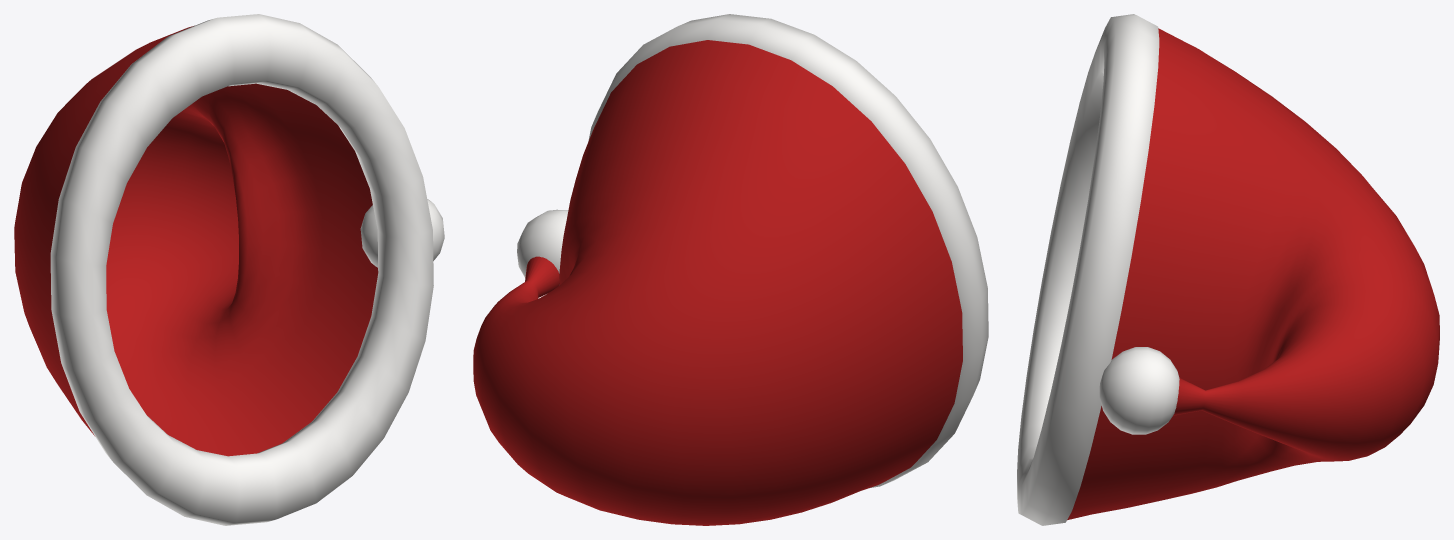
File: Santa Hat-a72SiELo.glb
The picture shows the model from 3 angles, left to right: view 1: azimuth 30°, elevation 25°; view 2: azimuth 150°, elevation 25°; view 3: azimuth 270°, elevation 25°; orthographic projection. The views are drawn at different scales.
Visible parts, largest first — view 1: Santa_Hat_Fitted.001; view 2: Santa_Hat_Fitted.001; view 3: Santa_Hat_Fitted.001.
Boxes of the visible parts, x1,y1,x2,y2 form: Santa_Hat_Fitted.001: [14, 14, 444, 525]; Santa_Hat_Fitted.001: [473, 14, 988, 525]; Santa_Hat_Fitted.001: [1017, 14, 1439, 525].
Size of the model in its own units: 0.2584 by 0.284 by 0.227.
